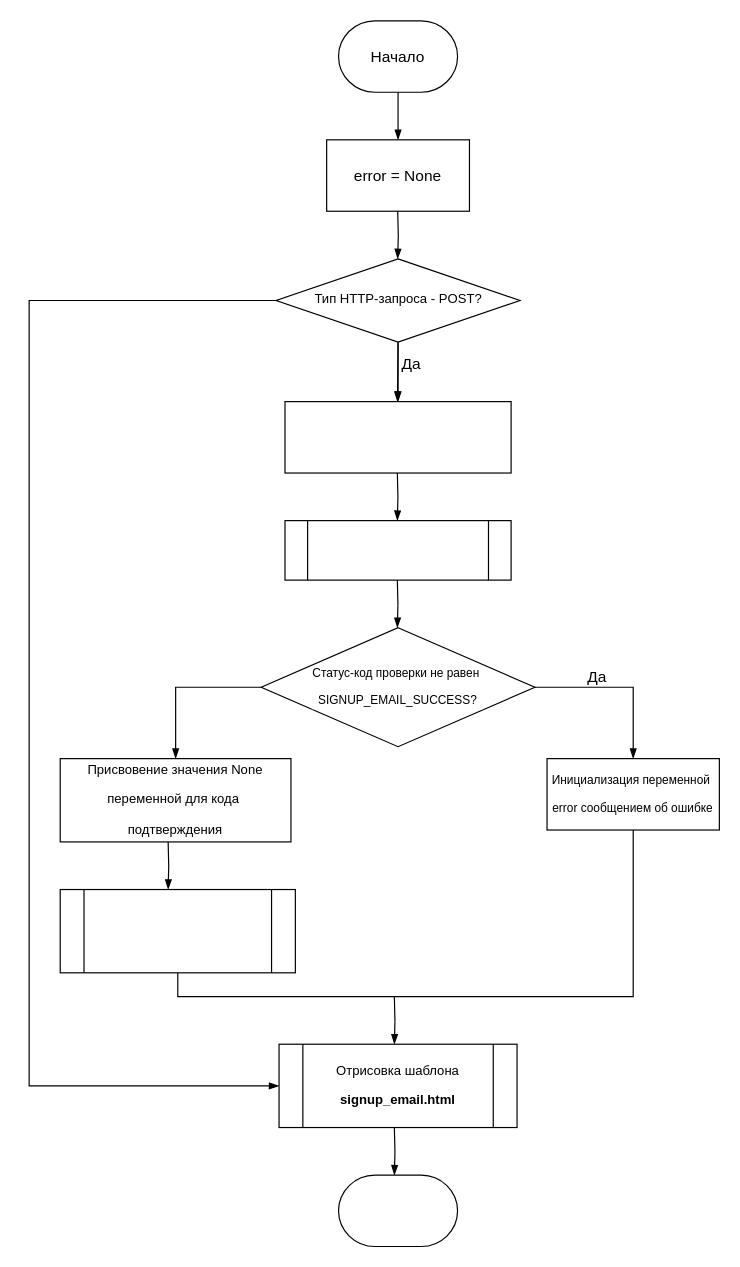
Image size: 740x1267. Some labels were removed from this diagram. The shapes that lost their labels are listed below. From the top down, each one's centre as x and y in pixels, then its label:
the point at 397,436: email_address = request.form[ 'email' ]
the point at 397,549: Проверка валидности email-адреса
the point at 177,930: Перенаправление на метод signup_password
the point at 397,1210: Конец
